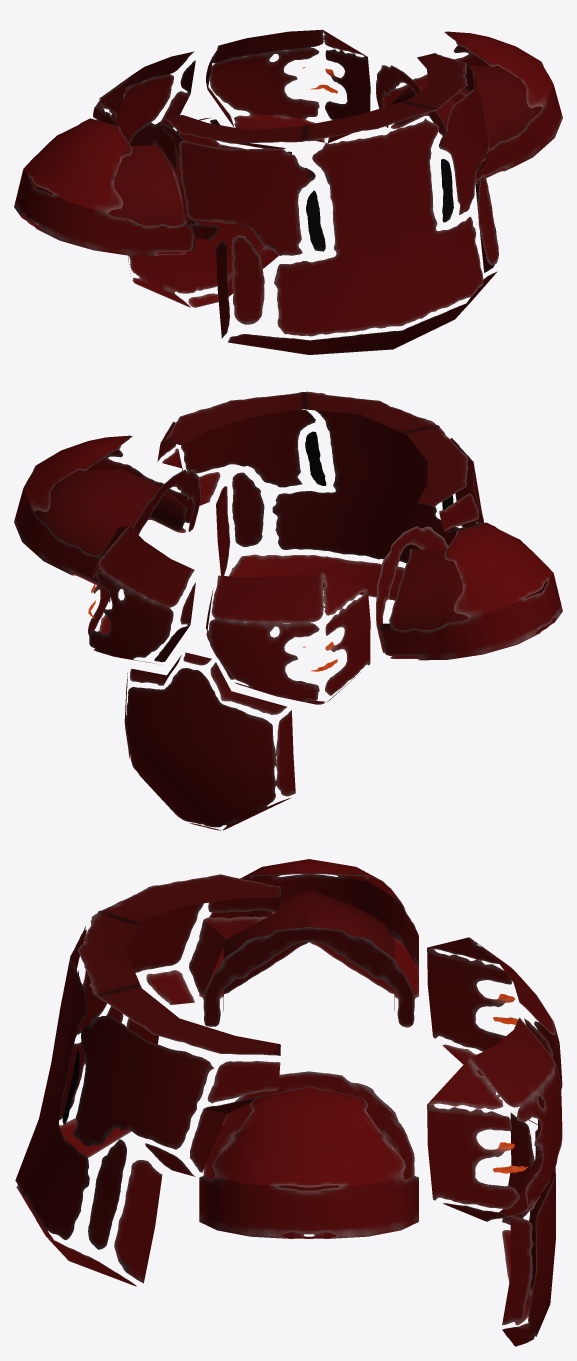
Rendered from IG_Armor_SBossFire_ResElec.fbx.
3 views of the same model, one above another, from view 1: azimuth 30°, elevation 25°; view 2: azimuth 150°, elevation 25°; view 3: azimuth 270°, elevation 25° (orthographic). The views are drawn at different scales.
Parts seen in each view (by area): view 1: Boss_Horsemen_R_Body; view 2: Boss_Horsemen_R_Body; view 3: Boss_Horsemen_R_Body.
Part boxes in pixels (<box>): Boss_Horsemen_R_Body: <box>14,29,562,354</box>; Boss_Horsemen_R_Body: <box>14,391,562,830</box>; Boss_Horsemen_R_Body: <box>15,859,562,1346</box>.
Bounding box in the file's own units: 1 × 0.551 × 0.7096.
